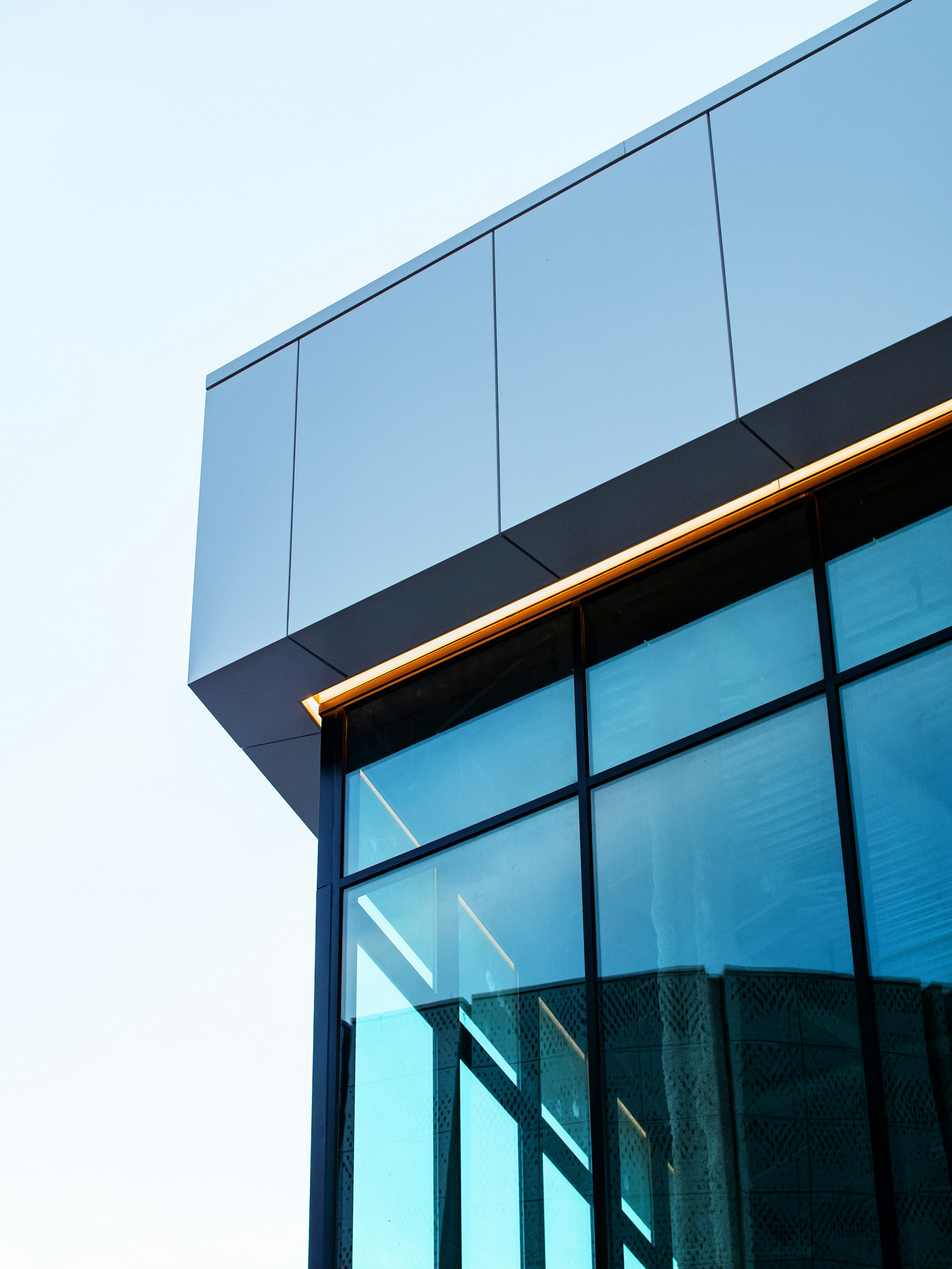glass panel: (593, 701, 880, 1269), (338, 799, 592, 1269), (842, 645, 952, 1266), (586, 506, 822, 771), (345, 612, 576, 872), (822, 437, 952, 669)
